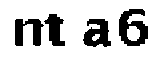6: (116, 2, 149, 49)
a: (79, 15, 112, 52)
n: (10, 14, 43, 50)
t: (45, 12, 69, 52)
